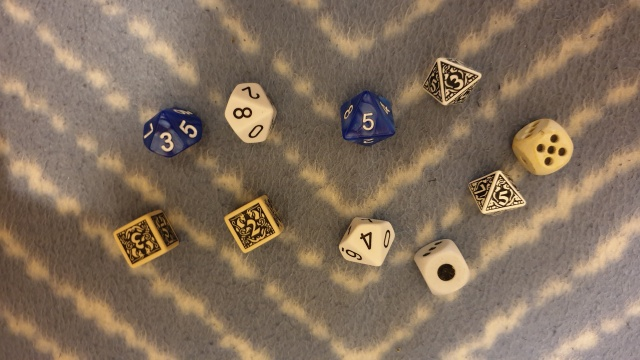d10-3: (138, 103, 205, 159)
d10-4: (333, 211, 397, 271)
d10-5: (352, 103, 384, 138)
d10-8: (217, 76, 280, 150)
d6-1: (415, 238, 472, 297)
d6-5: (509, 112, 573, 178)
d6p-2: (221, 194, 287, 256)
d6p-3: (109, 207, 182, 269)
d8p-3: (419, 53, 487, 111)
d8p-5: (464, 165, 528, 218)
